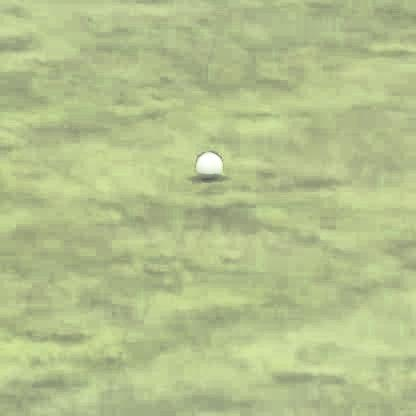golfball: (193, 148, 221, 178)
